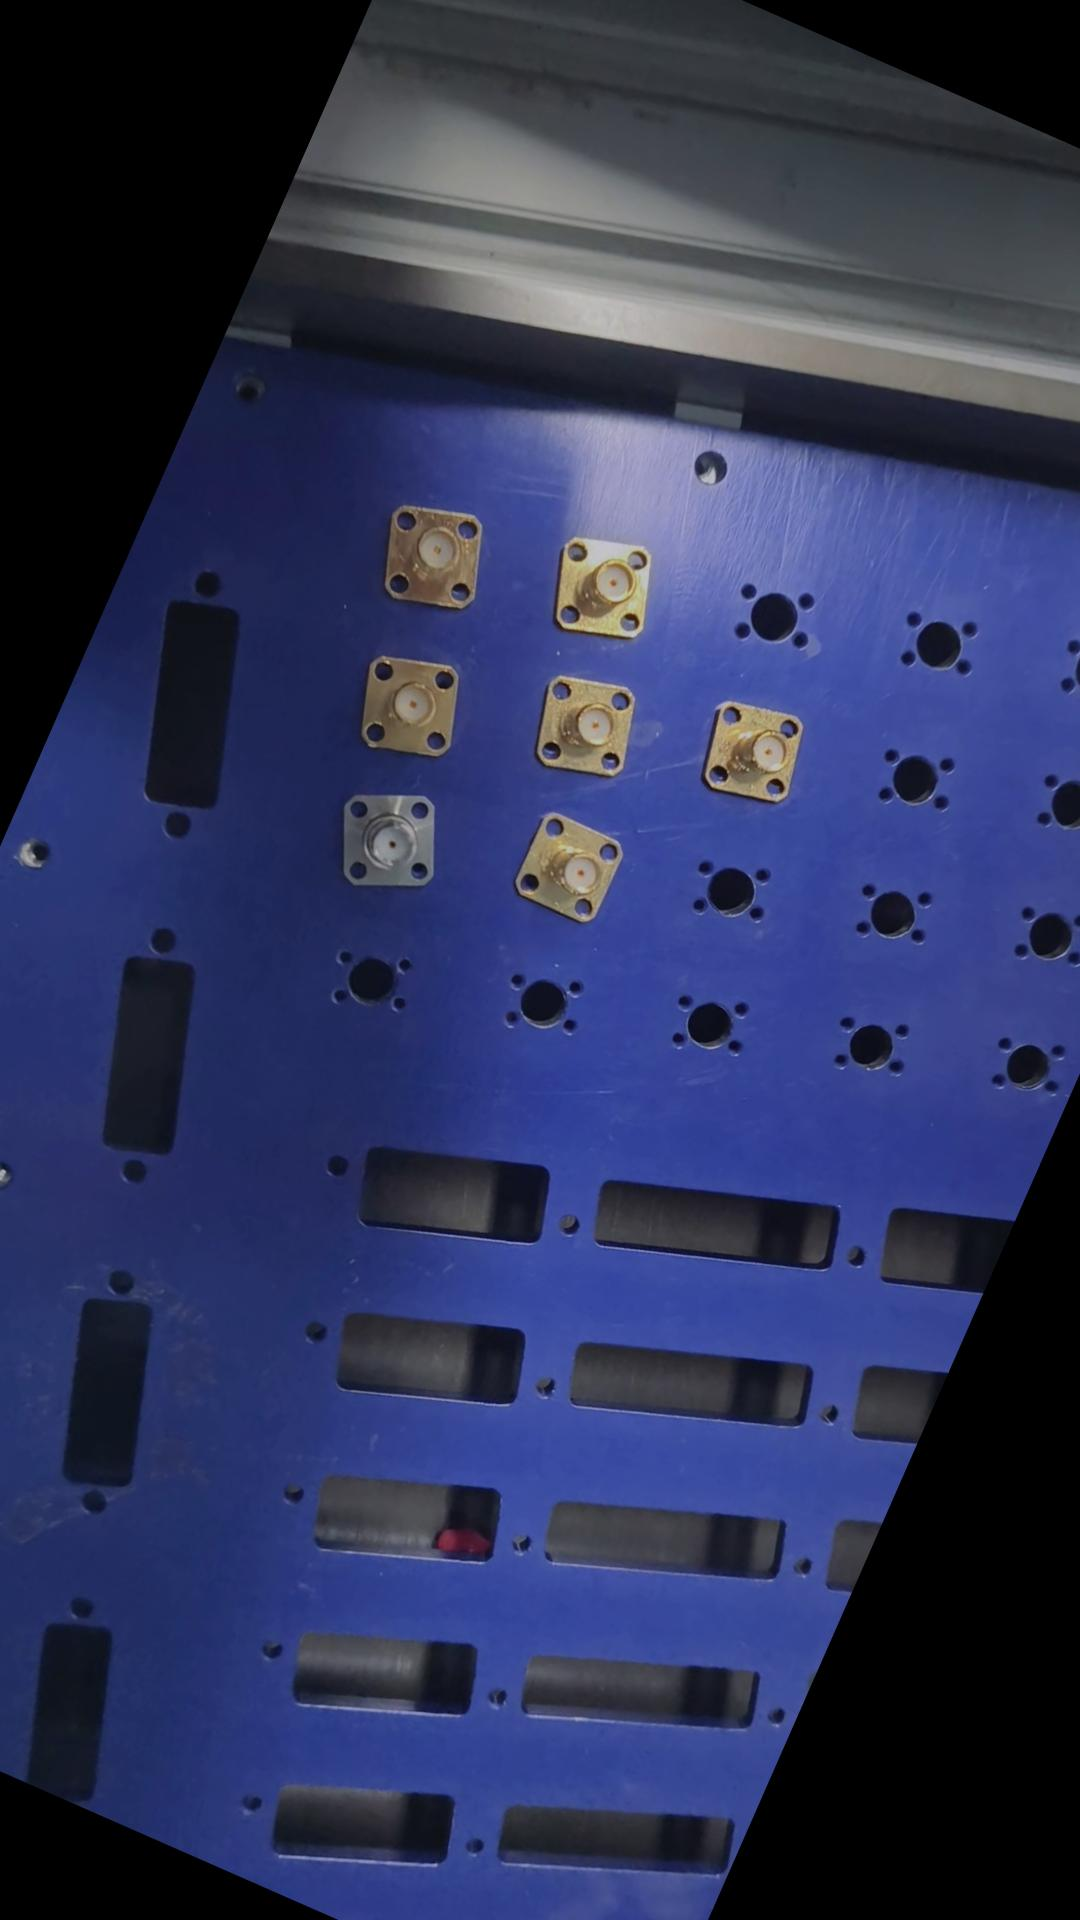SMA: (356, 485, 512, 633), (316, 769, 469, 914), (535, 516, 684, 659), (343, 638, 487, 778), (498, 800, 641, 940), (517, 661, 659, 796), (688, 684, 822, 824)
